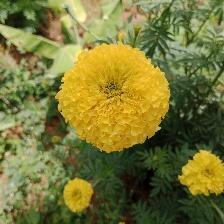marigold: (57, 42, 173, 157)
